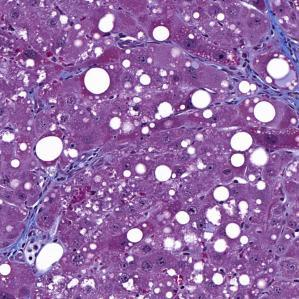fibrosis: (238, 35, 299, 93)
